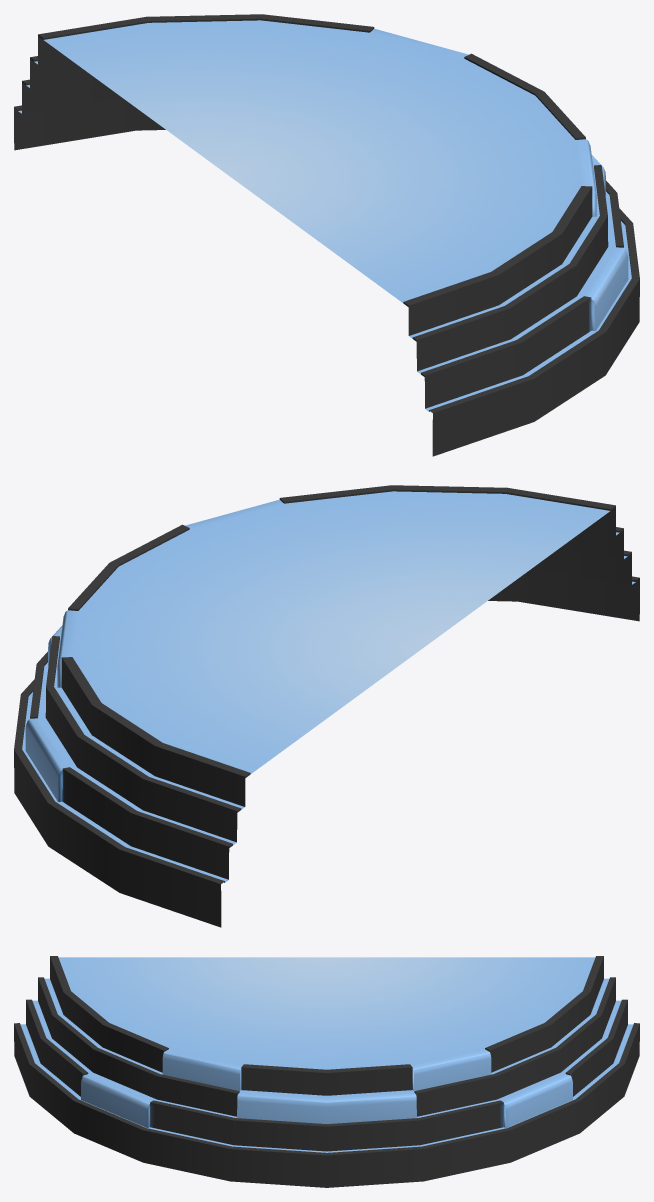
File: Water_Feature.fbx
The picture shows the model from 3 angles, top to bottom: view 1: azimuth 30°, elevation 25°; view 2: azimuth 150°, elevation 25°; view 3: azimuth 270°, elevation 25°; orthographic projection. The views are drawn at different scales.
Parts seen in each view (by area): view 1: Water_Feature; view 2: Water_Feature; view 3: Water_Feature.
Boxes of the visible parts, x1,y1,x2,y2 form: Water_Feature: [14, 14, 639, 456]; Water_Feature: [14, 485, 639, 927]; Water_Feature: [14, 956, 639, 1187].
Size of the model in its own units: 786 by 276 by 1571.
